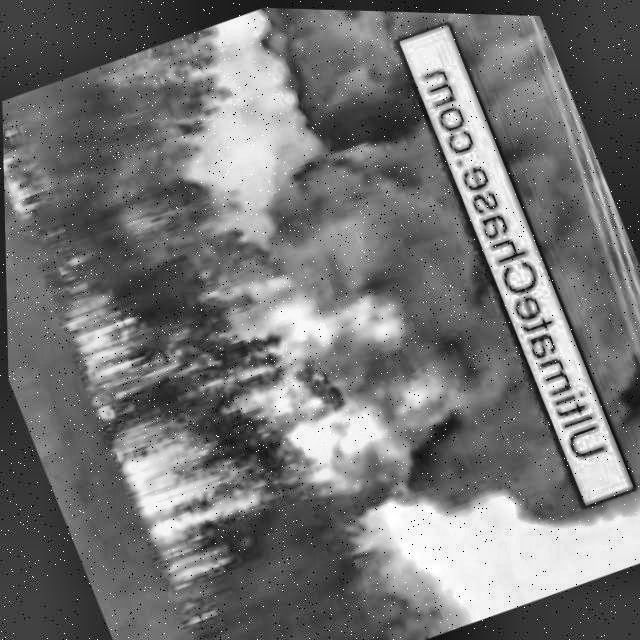Fire: (54, 177, 494, 599), (2, 123, 60, 230)
Smoke: (246, 6, 590, 566), (418, 10, 640, 491)
